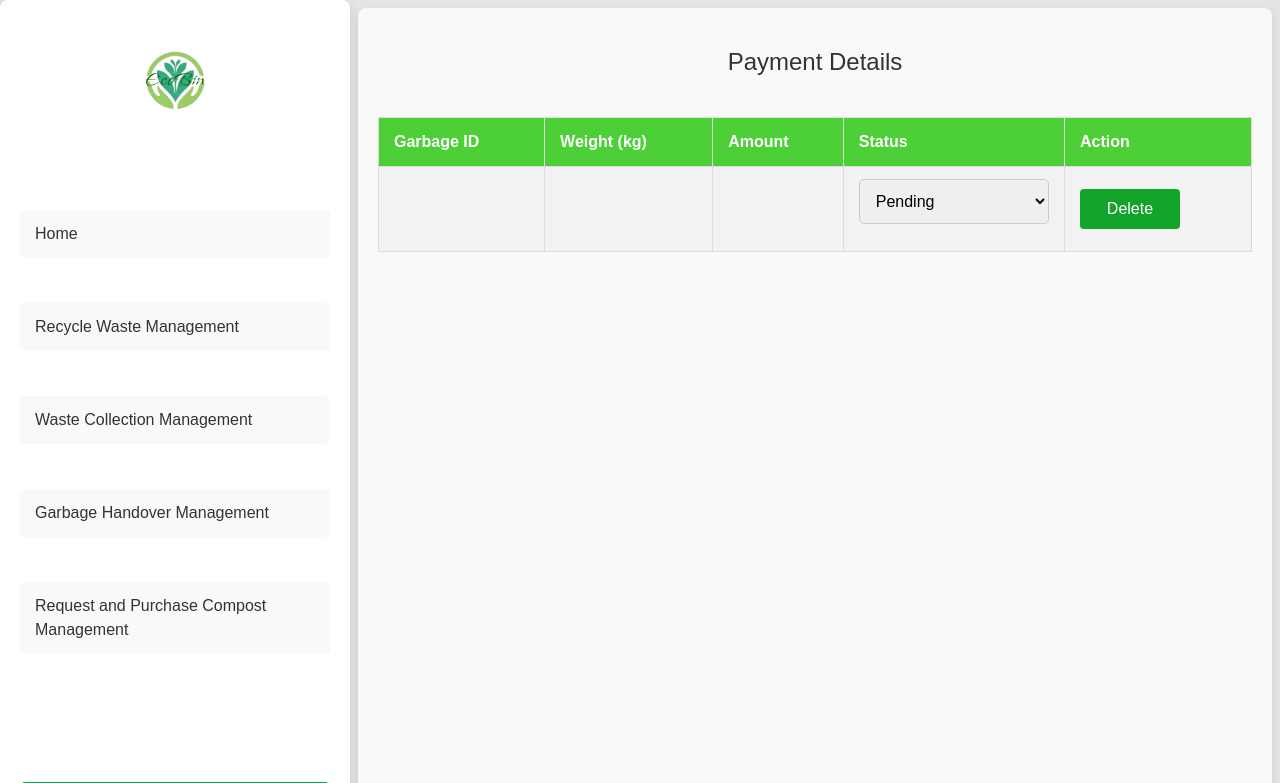
Scenario: Payment Component › does not delete payment details if status is not completed
Click the button "Delete": (1130, 209) [1080,189,1180,229]
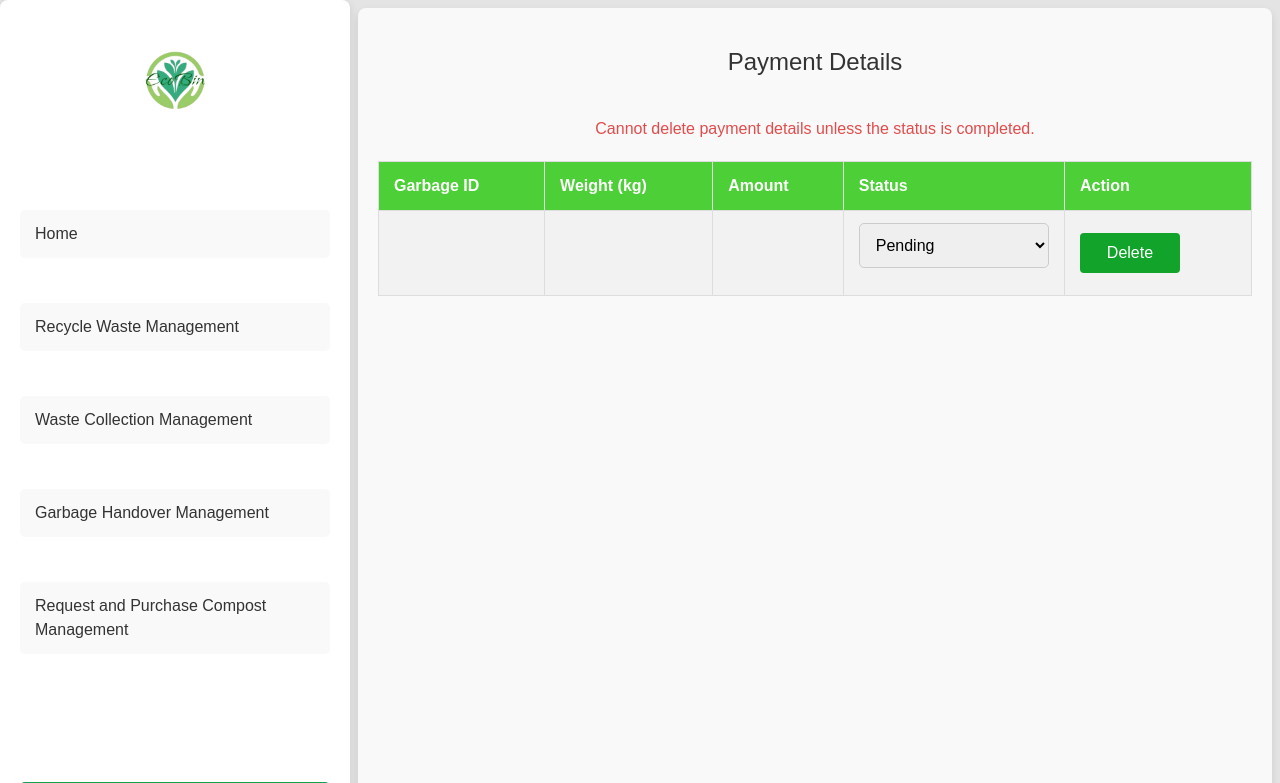
Expected: the text "Cannot delete payment details unless the status is completed." is shown, [595,120,1035,137]
